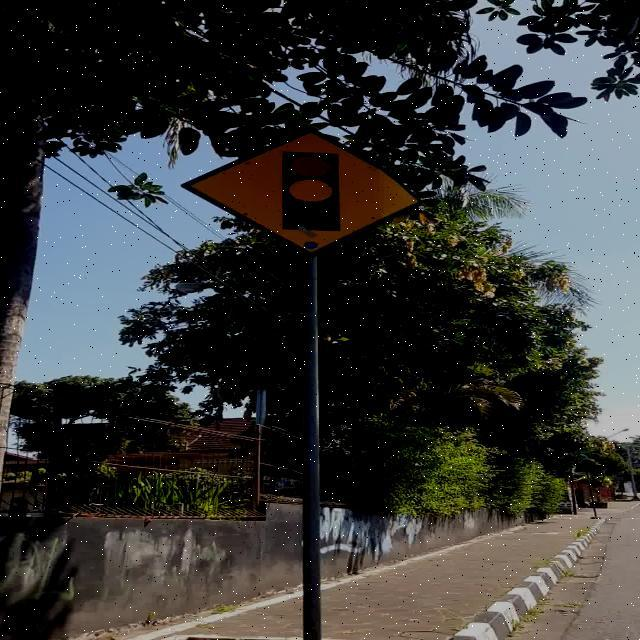Lampu Lalu Lintas: (180, 128, 422, 255)
